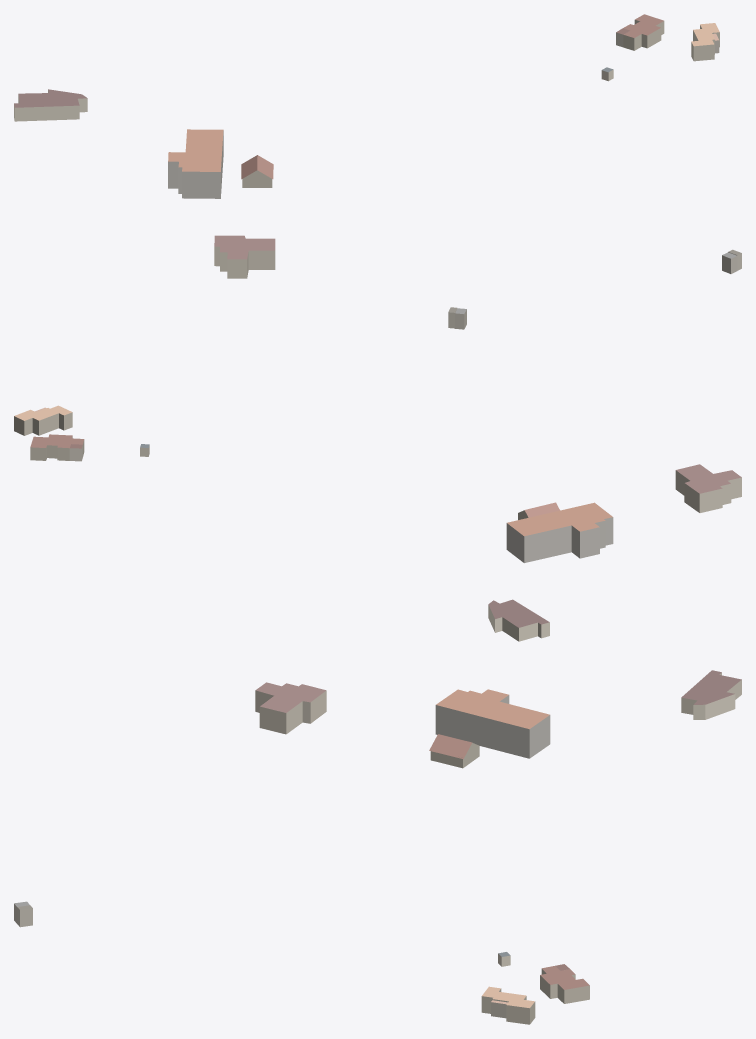
3 renders of one model, top to bottom at view 1: azimuth 30°, elevation 25°; view 2: azimuth 150°, elevation 25°; view 3: azimuth 270°, elevation 25°, orthographic. The views are drawn at different scales.
Visible parts, largest first — view 1: tuile; view 2: tuile; view 3: tuile.
Part boxes in pixels (x1=…): tuile: x1=14, y1=14, x2=741, y2=278; tuile: x1=14, y1=307, x2=741, y2=641; tuile: x1=14, y1=670, x2=741, y2=1024.
Bounding box in the file's own units: 249 × 15.41 × 231.
